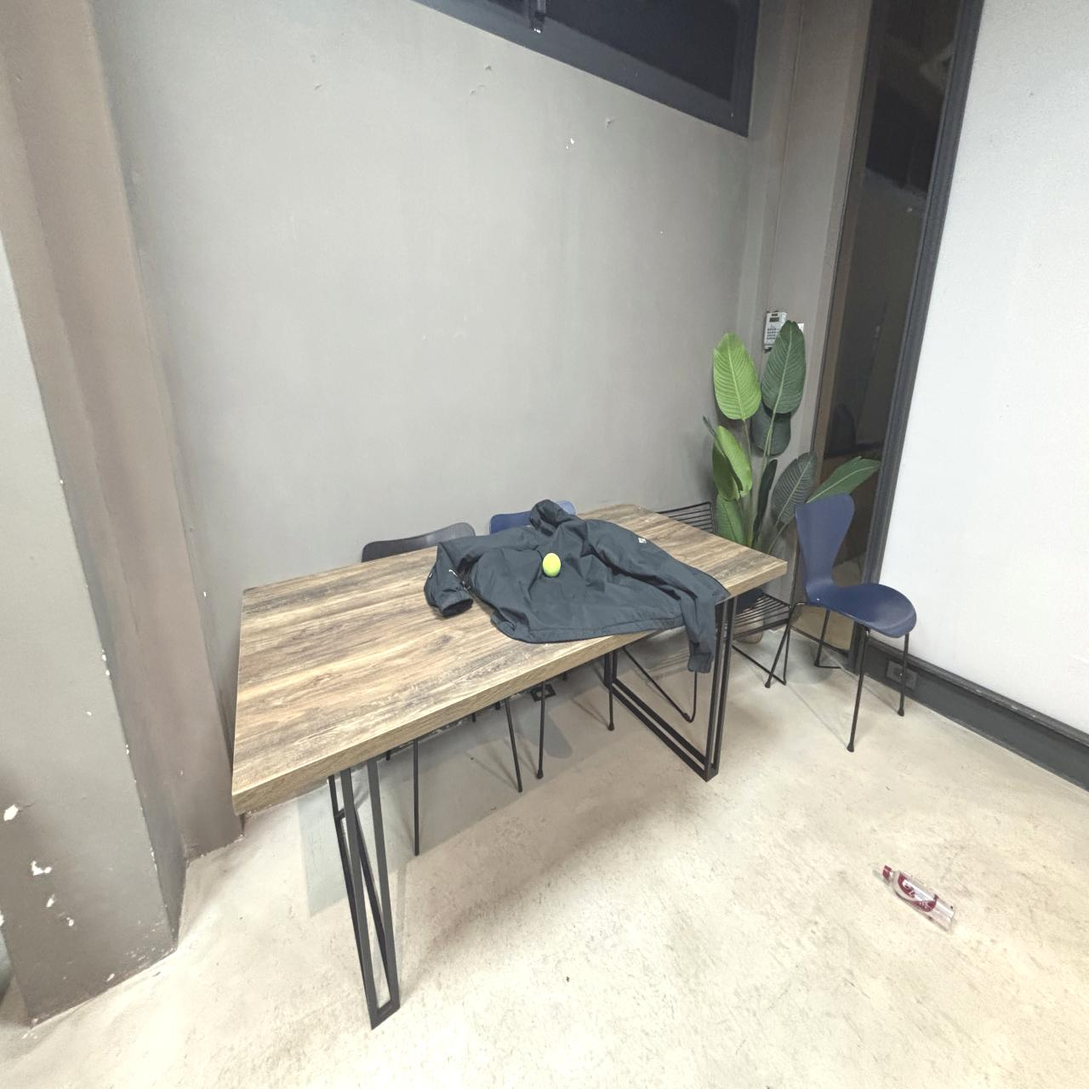tennisball: (542, 554, 561, 577)
